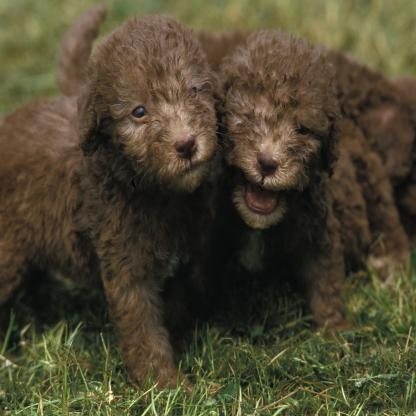Bedlington Terrier: (3, 14, 222, 416), (218, 14, 410, 388)
